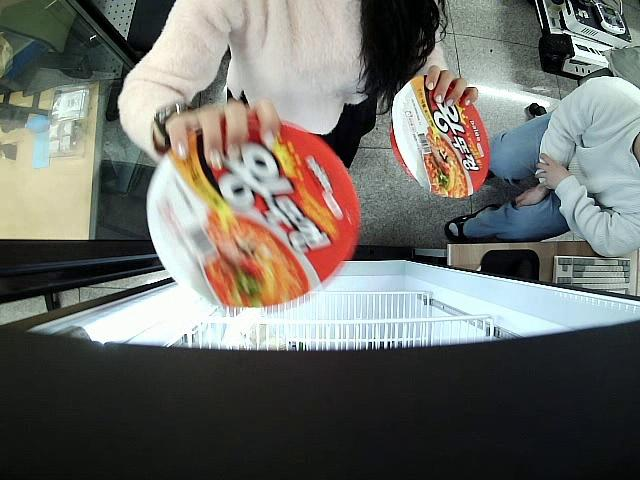00_hand: (165, 101, 279, 171), (425, 65, 480, 111)
10_wangTtukkeong: (147, 120, 360, 307), (391, 76, 489, 198)
